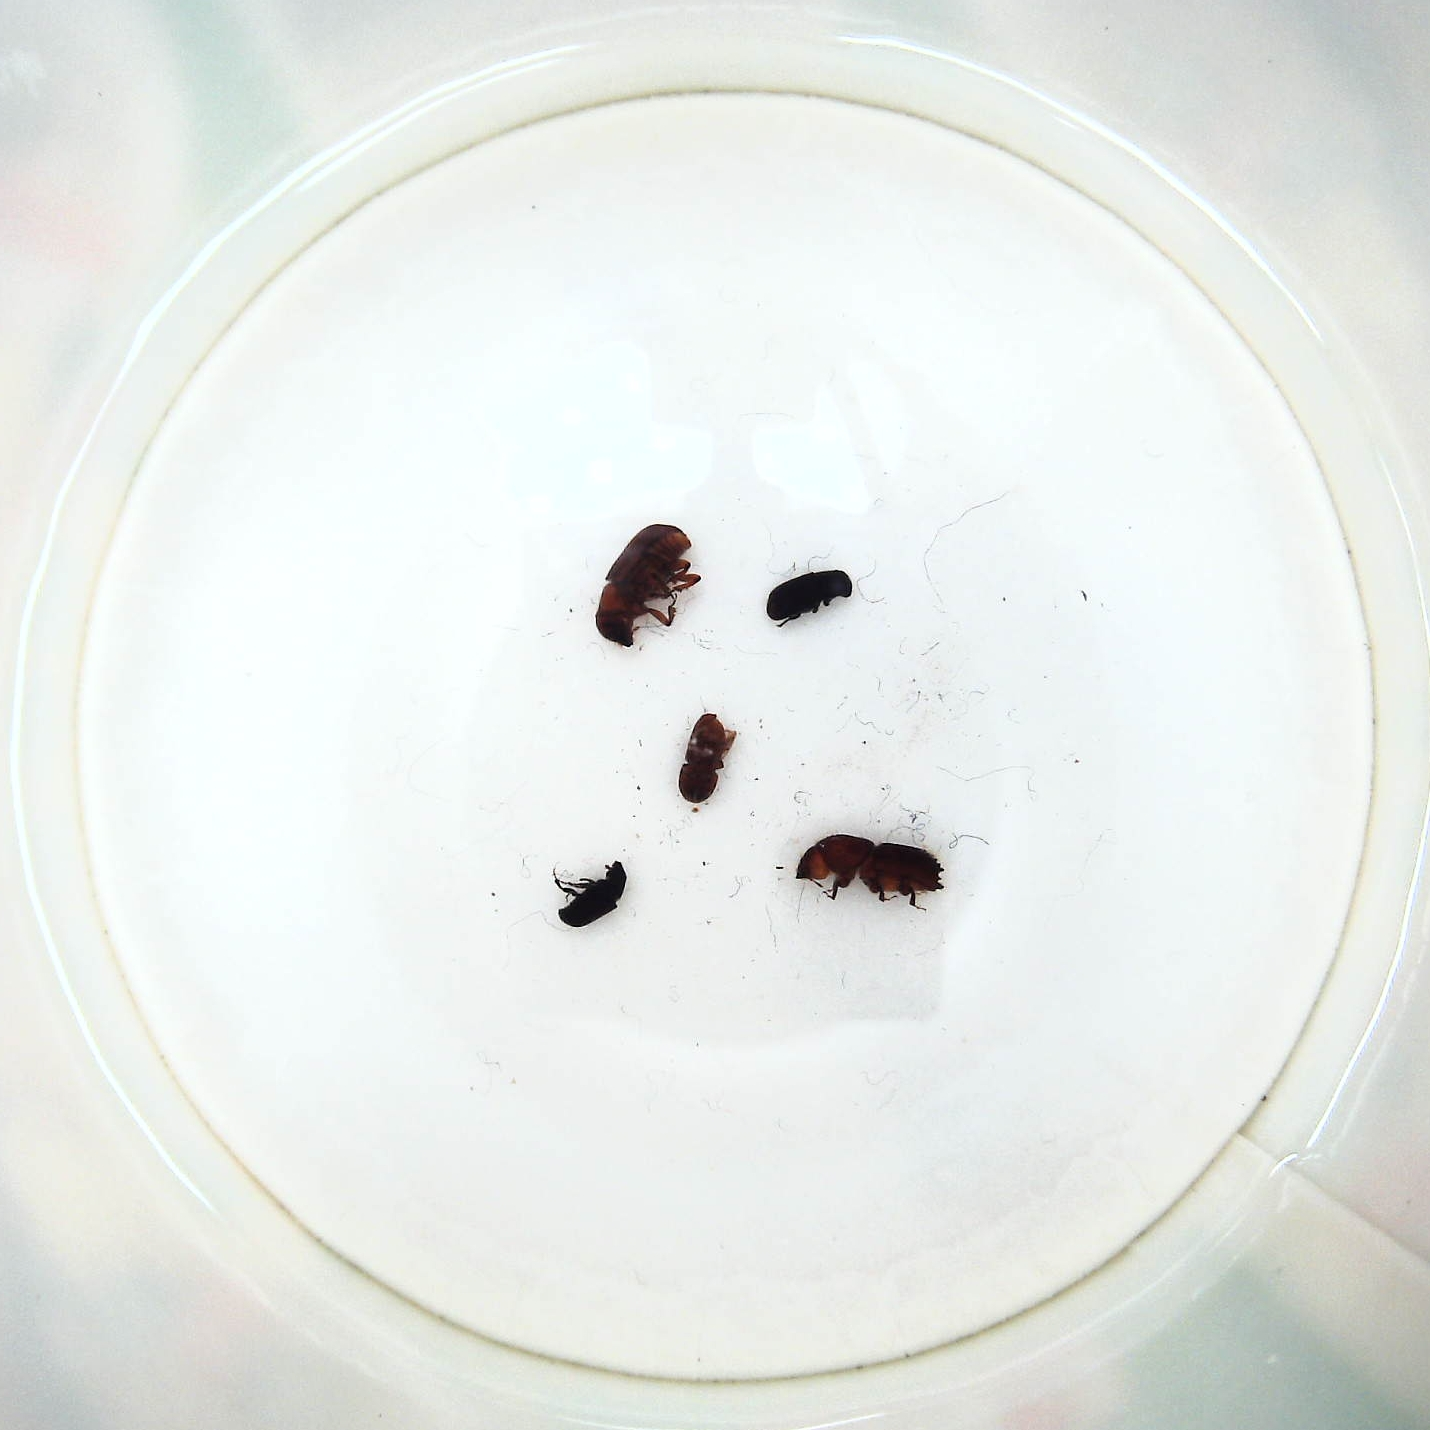Boerner: (794, 834, 947, 910)
Leconte: (591, 520, 703, 653)
armandi: (760, 568, 856, 627)
coleoptera: (542, 864, 632, 928)
linnaeus: (674, 708, 735, 807)
